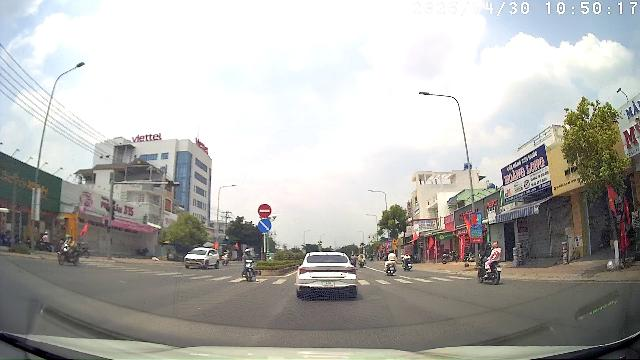102-cam-di-nguoc-chieu: (258, 204, 272, 217)
302a-huong-phai-di-vong-chuong-ngai-vat-1: (258, 218, 272, 232)
